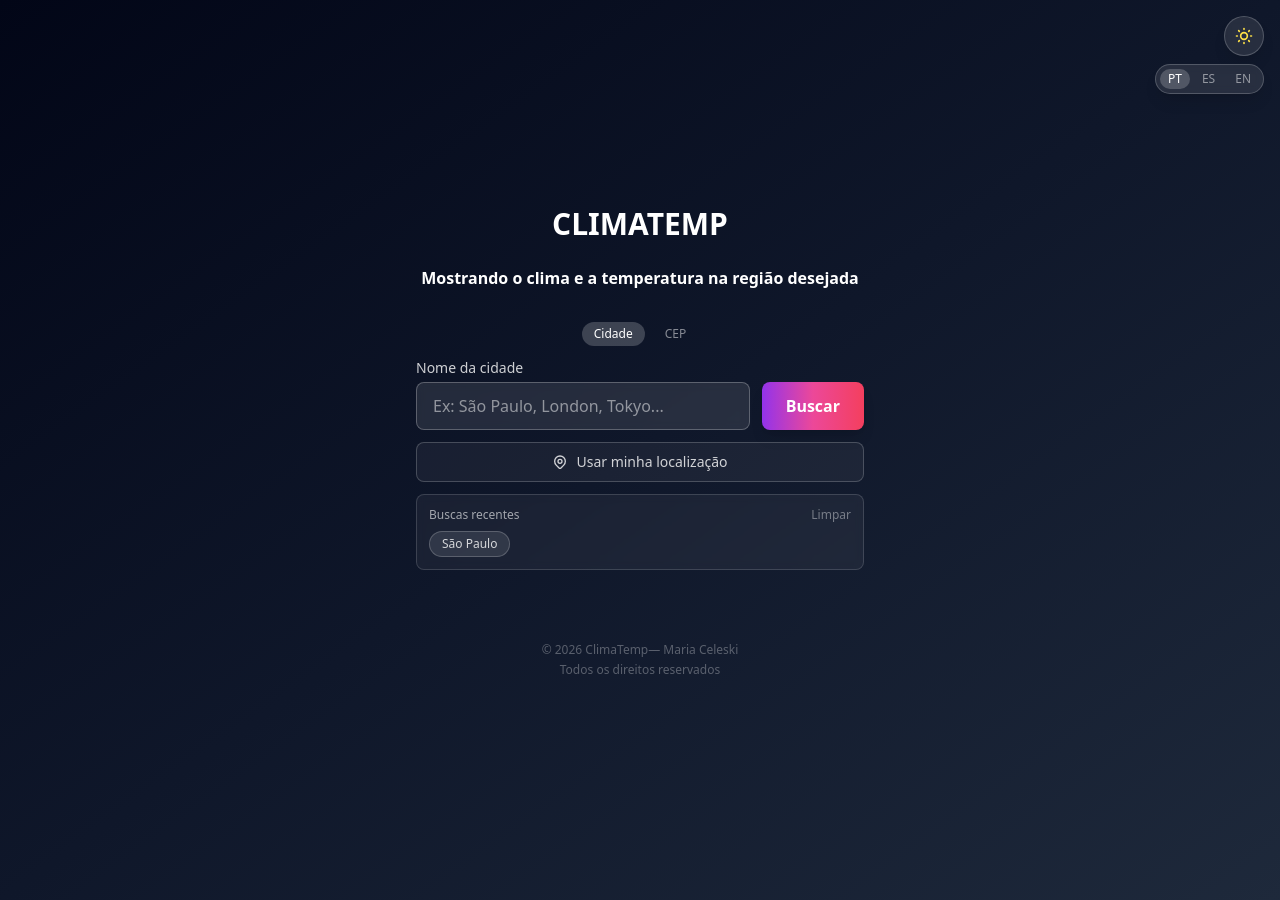
Test: App Integration Tests › should show timeout message when request is aborted
Type "Tokyo" into the field labelled "Nome da cidade" at (583, 406), box [416, 382, 750, 430]
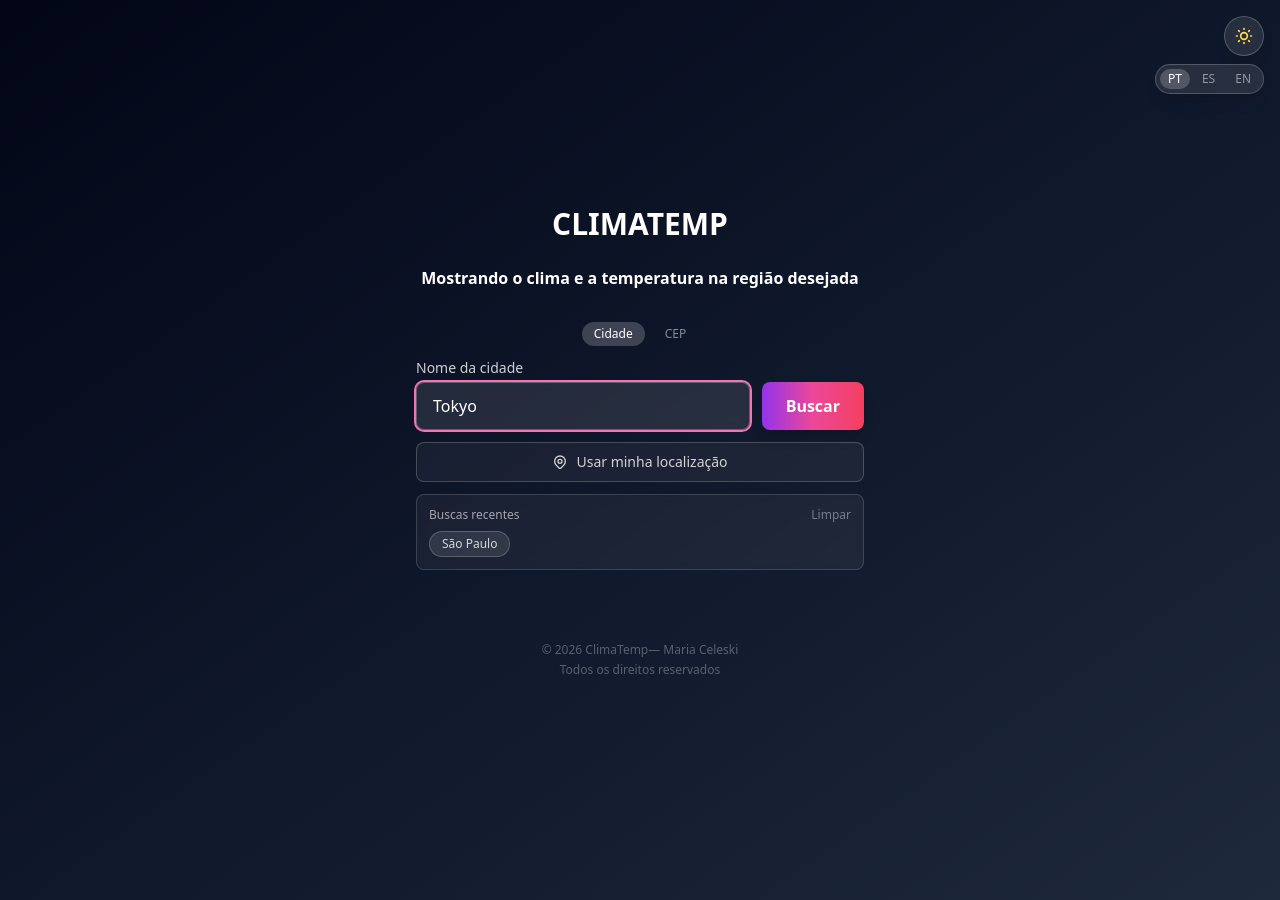
Click the button with aria-label "Buscar clima por cidade" at (813, 406), box [762, 382, 864, 430]
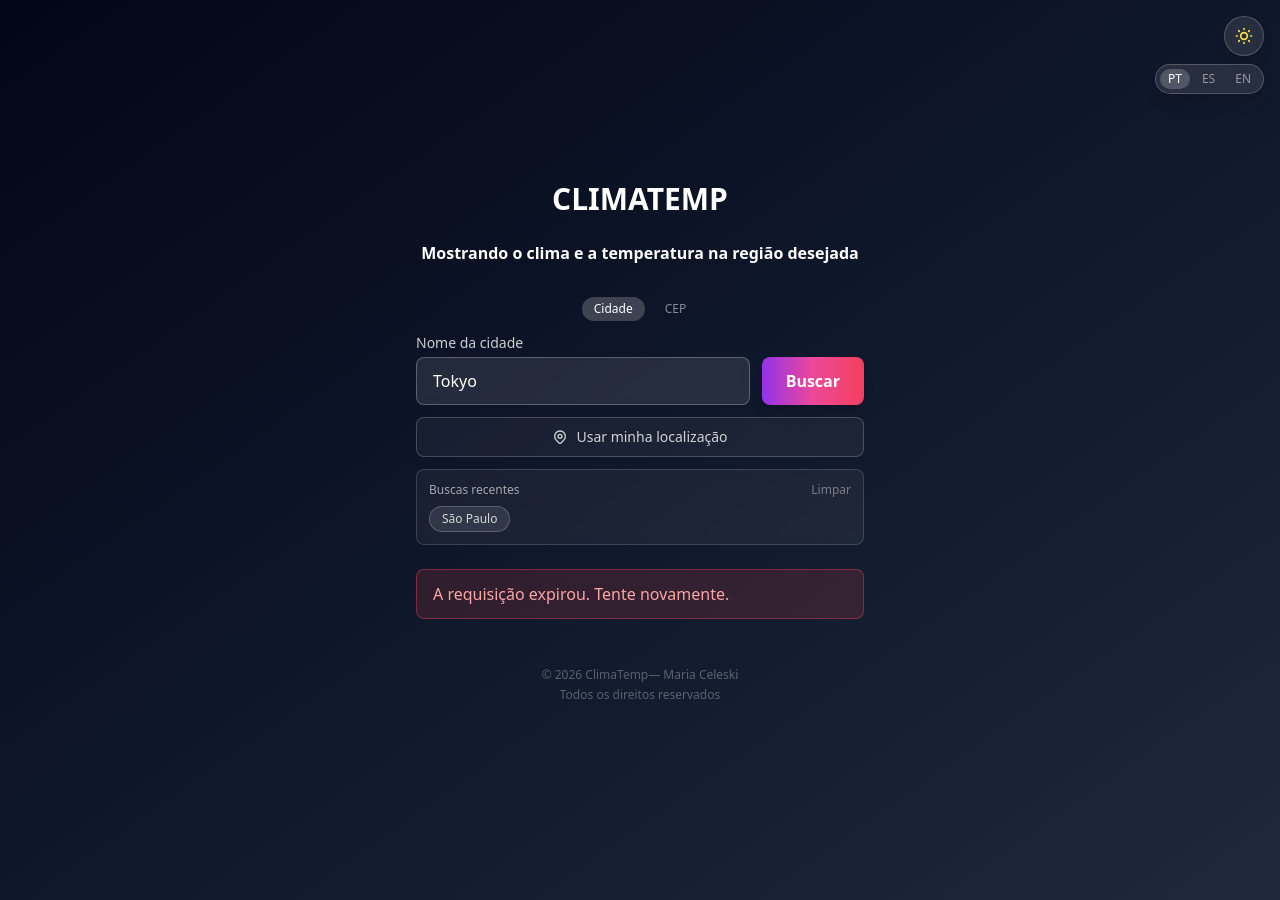
Now the message "A requisição expirou. Tente novamente." is shown, box [416, 569, 864, 619]
Now the text "A requisição expirou. Tente novamente." is shown, box [433, 583, 729, 605]
